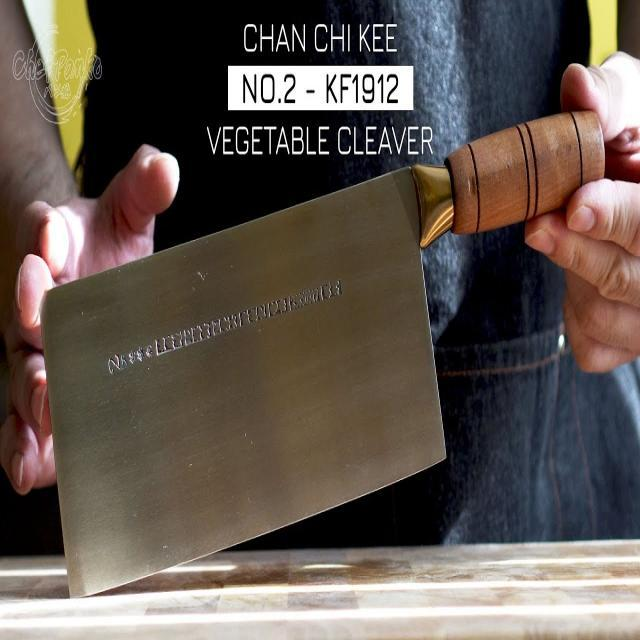cleaver: (39, 101, 606, 604)
